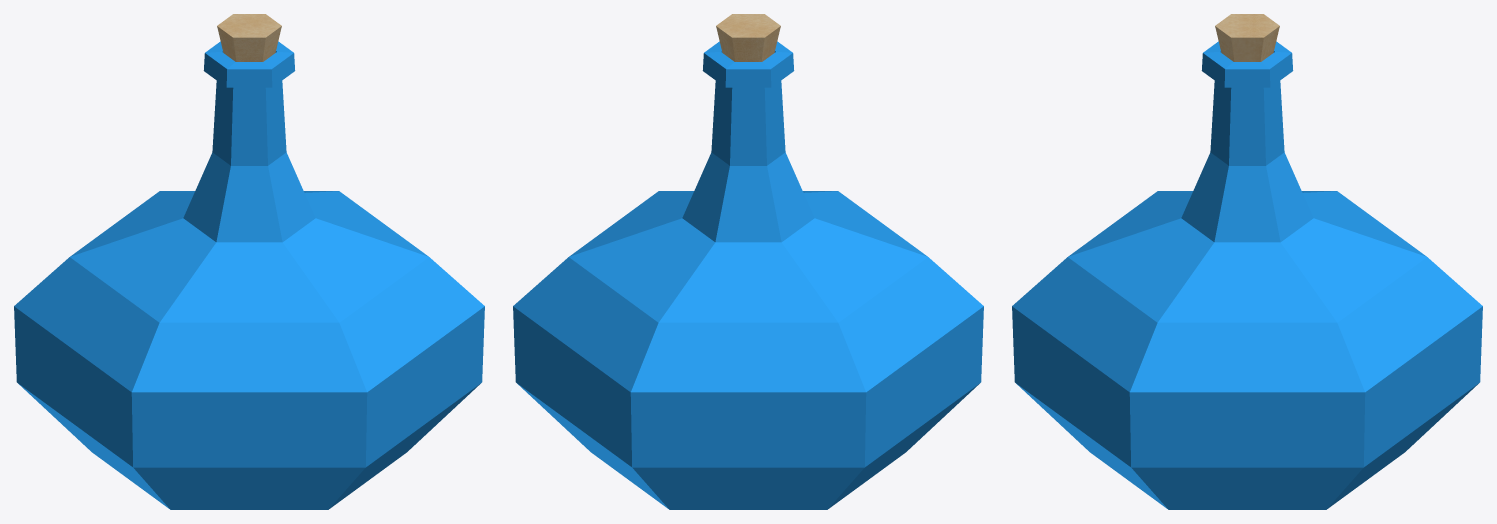
The model's file is Potion_05.fbx.
3 views of the same model, side by side, from view 1: azimuth 30°, elevation 25°; view 2: azimuth 150°, elevation 25°; view 3: azimuth 270°, elevation 25° (orthographic).
Parts seen in each view (by area): view 1: potion_05; view 2: potion_05; view 3: potion_05.
Part boxes in pixels (bbox=[...]): potion_05: bbox=[14, 14, 484, 509]; potion_05: bbox=[513, 14, 983, 509]; potion_05: bbox=[1012, 14, 1482, 509].
Size of the model in its own units: 192 by 222 by 222.
2 materials, 1 textured.
